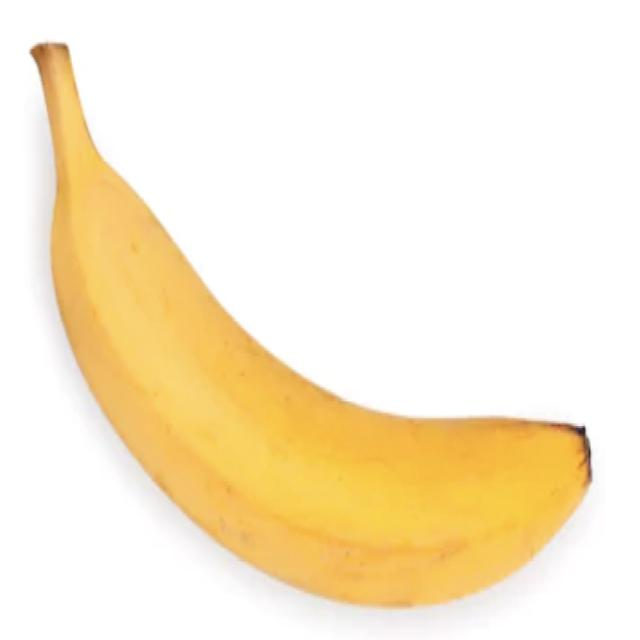fresh-banana: (28, 38, 593, 609)
